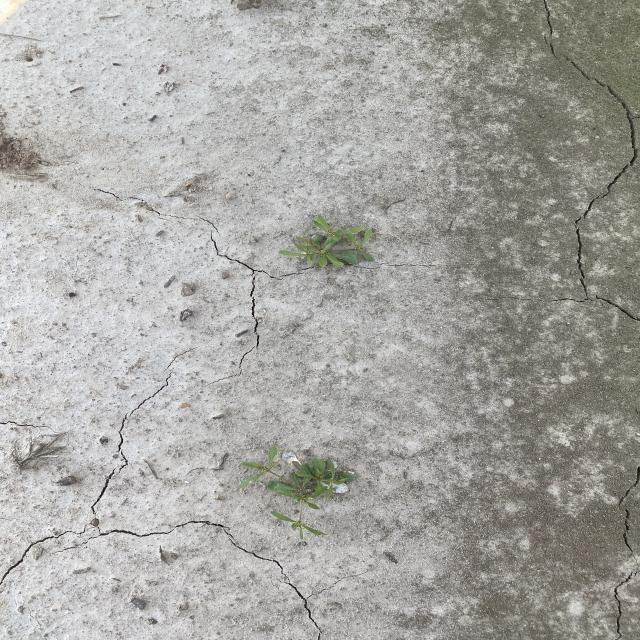Carpetweed: (236, 443, 359, 541), (277, 212, 378, 270)
